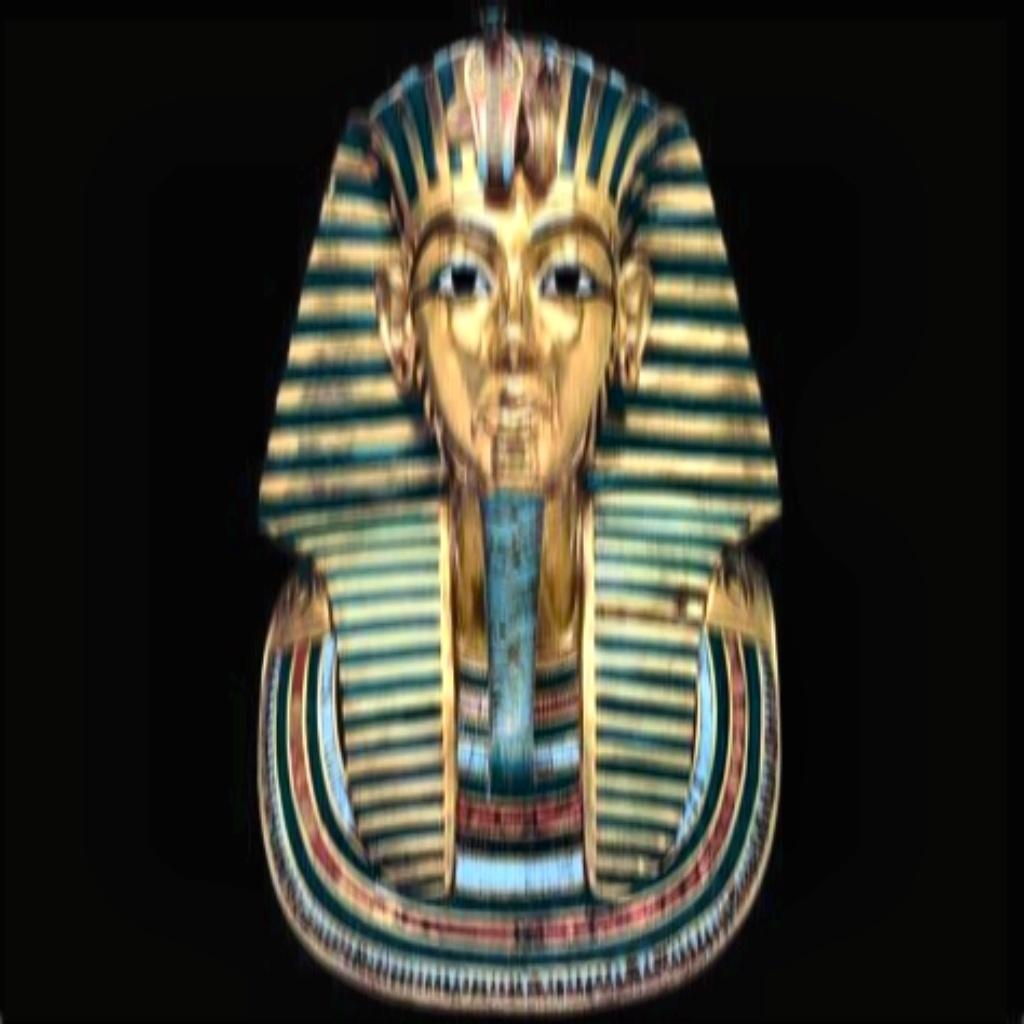Mask of Tutankhamun: (252, 8, 788, 1012)
